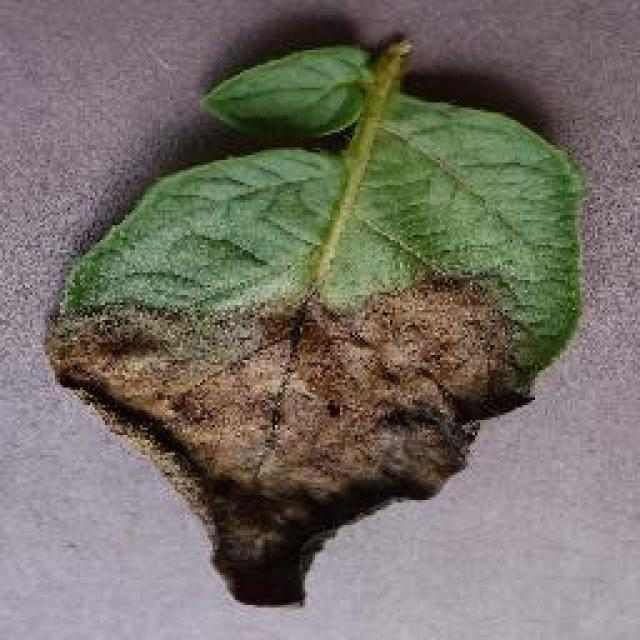Late_blight: (32, 274, 572, 623)
